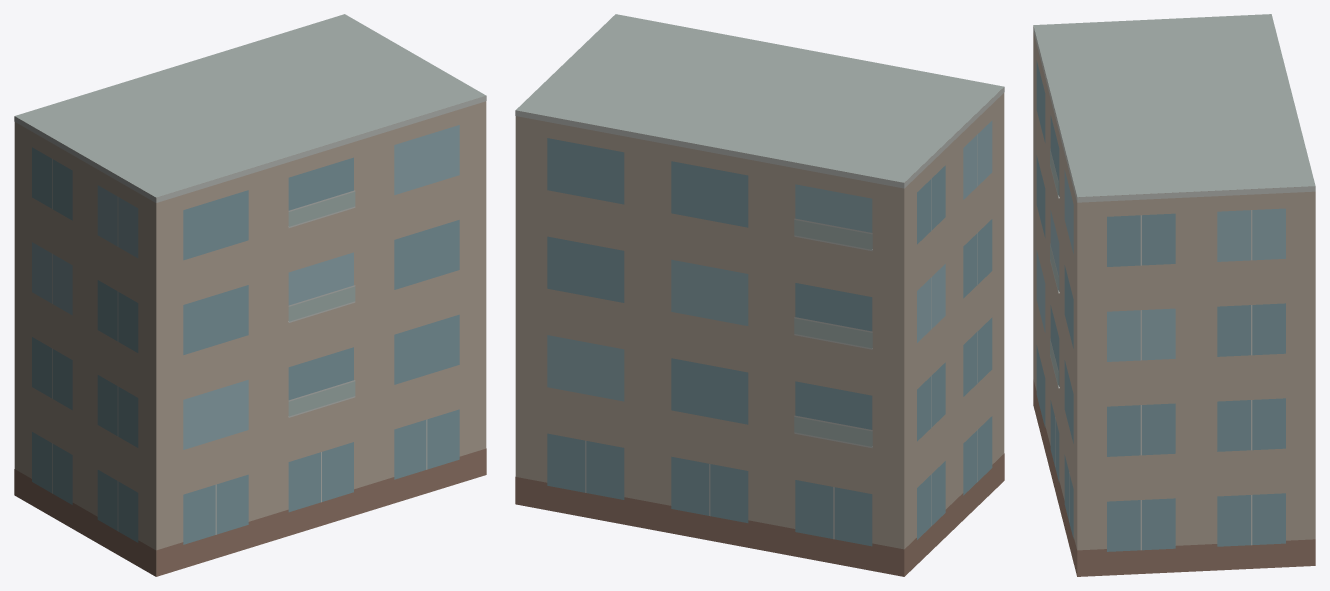
The model's file is survey-upis-32750738.glb.
The picture shows the model from 3 angles, left to right: view 1: azimuth 30°, elevation 25°; view 2: azimuth 150°, elevation 25°; view 3: azimuth 270°, elevation 25°; orthographic projection. The views are drawn at different scales.
Visible parts, largest first — view 1: survey-upis-32750738.tmp; view 2: survey-upis-32750738.tmp; view 3: survey-upis-32750738.tmp.
Part boxes in pixels (x1=…): survey-upis-32750738.tmp: x1=14, y1=14, x2=486, y2=576; survey-upis-32750738.tmp: x1=515, y1=14, x2=1004, y2=576; survey-upis-32750738.tmp: x1=1033, y1=14, x2=1315, y2=576.
Size of the model in its own units: 17.39 by 16.8 by 11.33.
